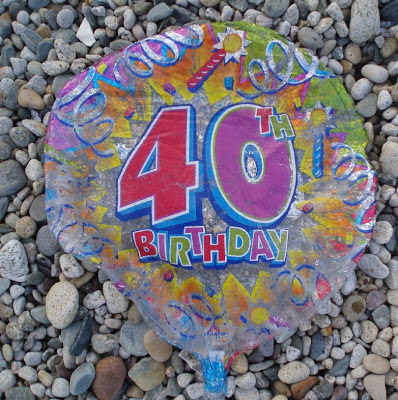litter: (47, 21, 376, 394)
